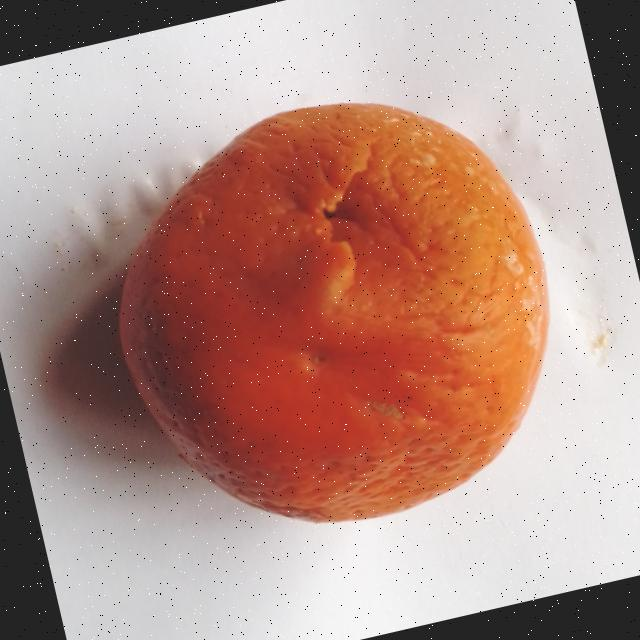Rotten: (72, 62, 588, 566)
